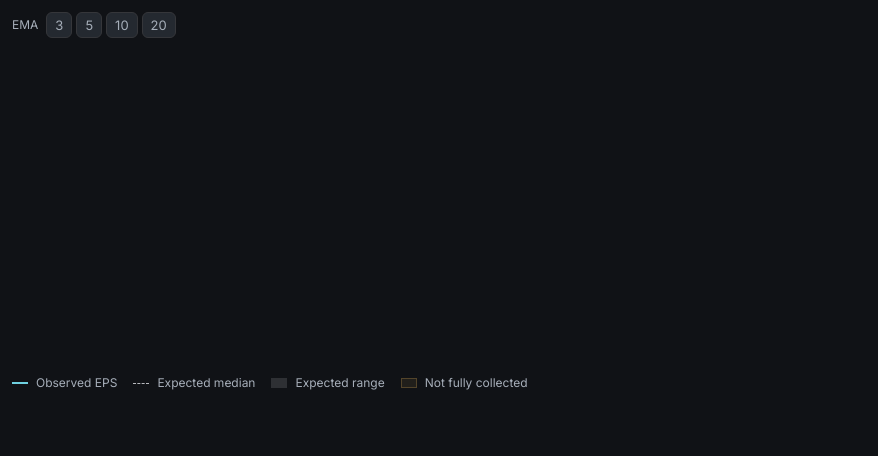
Scenario: EMA legend, note and text › keeps a legend entry that says so when there are not enough consecutive buckets
Click the button named "EMA 3": [59, 25] box 46,12 -> 72,38
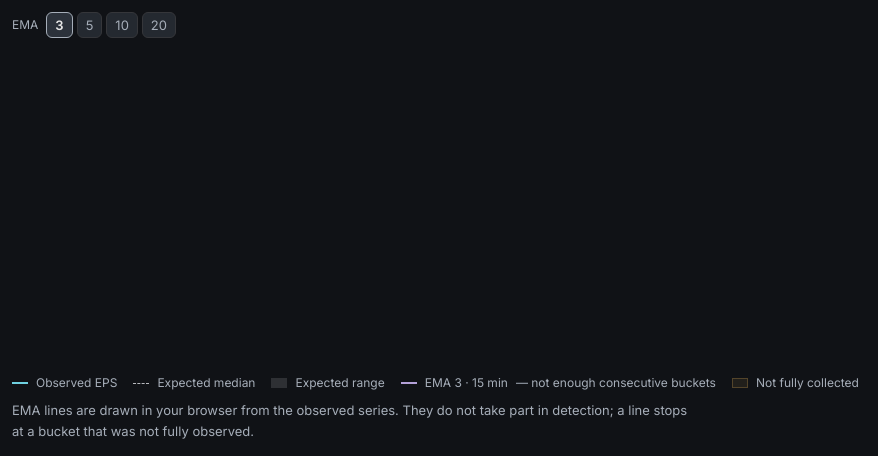
Result: the text "— not enough consecutive buckets" is shown at 516,374 -> 716,392
Result: the list item "EMA 3 · 15 min — not enough consecutive buckets" is shown at 401,374 -> 716,392
Click the button named "EMA 3": [59, 25] box 46,12 -> 73,38
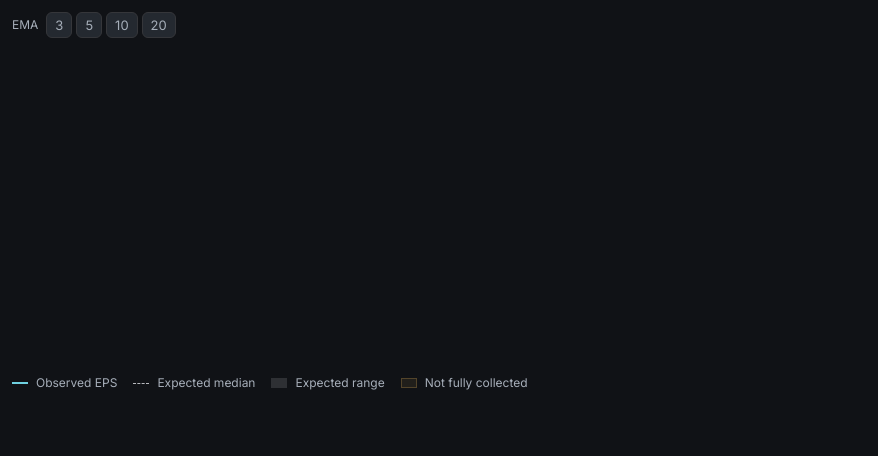
Click the button named "EMA 5": [89, 25] box 76,12 -> 102,38
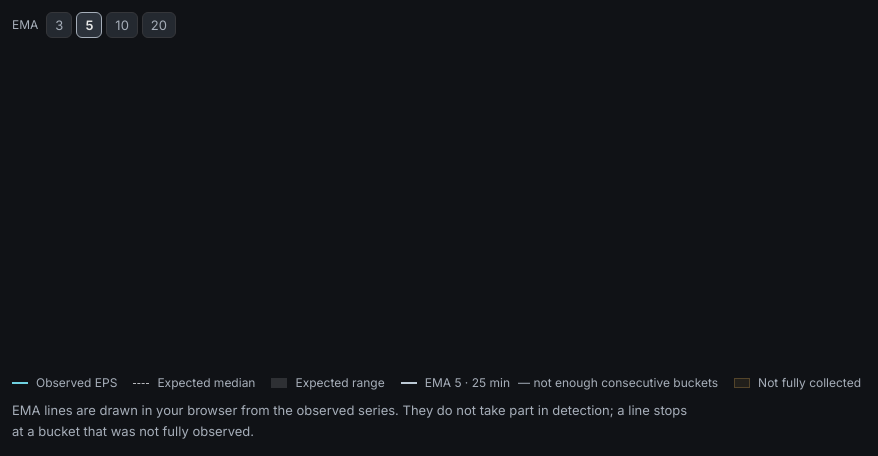
Result: the text "— not enough consecutive buckets" is shown at 518,374 -> 718,392
